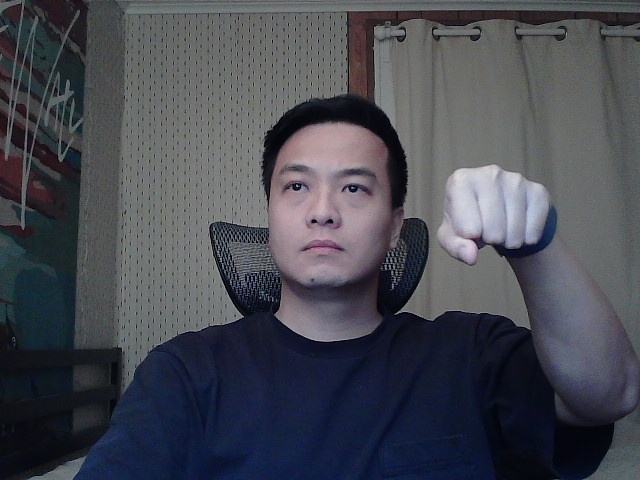Yes: (399, 142, 583, 284)
